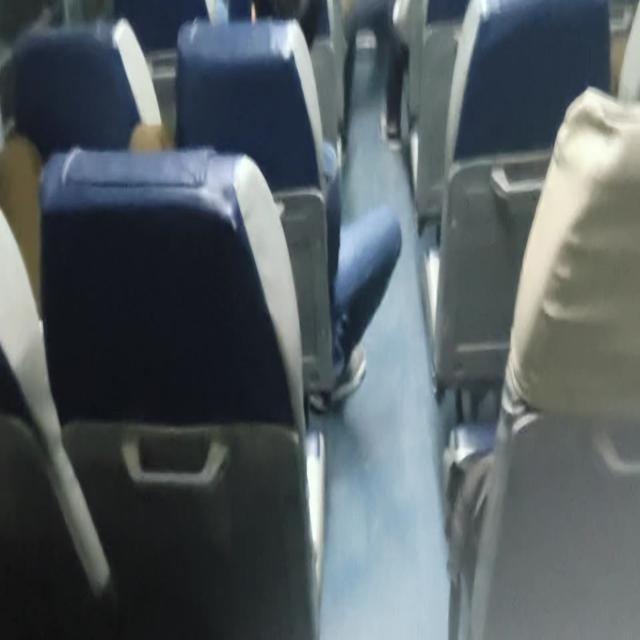person: (1, 2, 638, 636), (442, 4, 639, 637), (174, 12, 402, 410), (0, 204, 114, 633)
